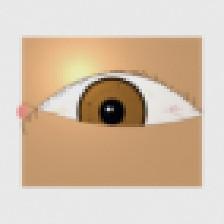pterygium_lesion: (21, 90, 77, 134)
